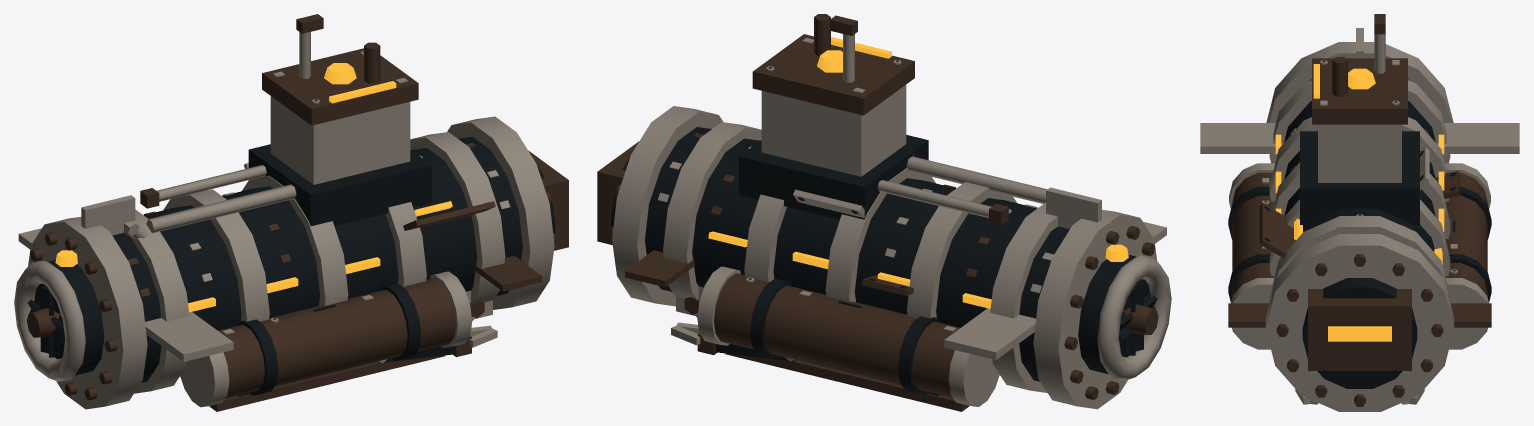
Rendered from abyssal-submersible-bathyarch.glb.
3 renders of one model, left to right at view 1: azimuth 30°, elevation 25°; view 2: azimuth 150°, elevation 25°; view 3: azimuth 270°, elevation 25°, orthographic. The views are drawn at different scales.
Visible parts, largest first — view 1: pressure-hull, ballast-tank-stb, end-cap-aft, tower, tower-base, end-cap-fore, tower-cap, reinforcement-band-5, prop-shroud, reinforcement-band-1, reinforcement-band-2, reinforcement-band-3 (+20 smaller); view 2: pressure-hull, ballast-tank-port, end-cap-aft, tower, end-cap-fore, tower-cap, tower-base, reinforcement-band-5, prop-shroud, reinforcement-band-1, reinforcement-band-2, reinforcement-band-3 (+20 smaller); view 3: end-cap-fore, nose-housing, tower-base, tower, tower-cap, end-cap-aft, ballast-tank-port, reinforcement-band-5, ballast-tank-stb, end-cap-fore-core, dive-plane-aft-port, dive-plane-aft-stb (+22 smaller).
Boxes of the visible parts, left/top/right/bottom form: pressure-hull: left=112, top=136, right=522, bottom=382; ballast-tank-stb: left=218, top=278, right=456, bottom=398; end-cap-aft: left=28, top=217, right=147, bottom=409; tower: left=270, top=96, right=410, bottom=184; tower-base: left=248, top=144, right=431, bottom=226; end-cap-fore: left=447, top=116, right=554, bottom=309; tower-cap: left=262, top=48, right=418, bottom=125; reinforcement-band-5: left=410, top=132, right=505, bottom=303; prop-shroud: left=14, top=261, right=85, bottom=381; reinforcement-band-1: left=124, top=209, right=189, bottom=393; reinforcement-band-2: left=163, top=189, right=269, bottom=321; reinforcement-band-3: left=242, top=175, right=348, bottom=305; pressure-hull: left=645, top=127, right=1069, bottom=381; ballast-tank-port: left=714, top=273, right=960, bottom=397; end-cap-aft: left=1033, top=210, right=1157, bottom=409; tower: left=761, top=85, right=906, bottom=176; end-cap-fore: left=612, top=106, right=723, bottom=306; tower-cap: left=752, top=34, right=914, bottom=115; tower-base: left=739, top=135, right=928, bottom=219; reinforcement-band-5: left=663, top=122, right=761, bottom=299; prop-shroud: left=1097, top=255, right=1171, bottom=380; reinforcement-band-1: left=990, top=202, right=1057, bottom=392; reinforcement-band-2: left=907, top=182, right=1016, bottom=318; reinforcement-band-3: left=825, top=167, right=935, bottom=301; end-cap-fore: left=1265, top=234, right=1454, bottom=411; nose-housing: left=1308, top=289, right=1411, bottom=370; tower-base: left=1300, top=131, right=1419, bottom=224; tower: left=1318, top=124, right=1401, bottom=182; tower-cap: left=1312, top=58, right=1407, bottom=124; end-cap-aft: left=1266, top=42, right=1453, bottom=122; ballast-tank-port: left=1445, top=172, right=1487, bottom=296; reinforcement-band-5: left=1269, top=216, right=1450, bottom=300; ballast-tank-stb: left=1232, top=172, right=1274, bottom=296; end-cap-fore-core: left=1302, top=278, right=1417, bottom=388; dive-plane-aft-port: left=1437, top=123, right=1519, bottom=153; dive-plane-aft-stb: left=1200, top=123, right=1282, bottom=153.
Bounding box in the file's own units: 95 × 59.19 × 52.85.
